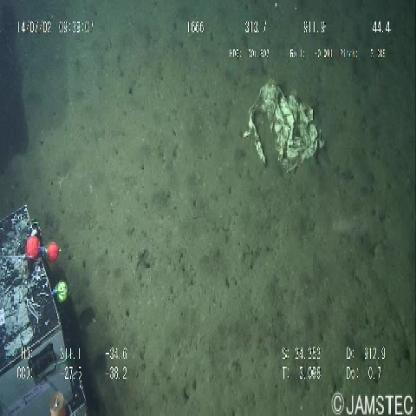Rov: (1, 180, 104, 416)
Rác: (235, 71, 330, 177)
